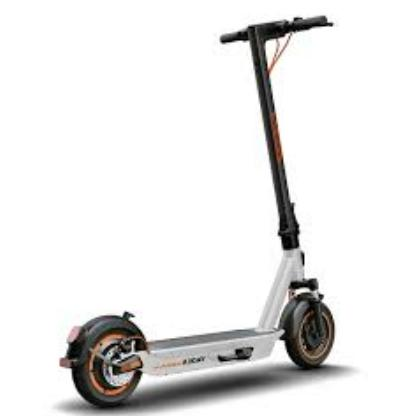bike: (58, 12, 336, 412)
